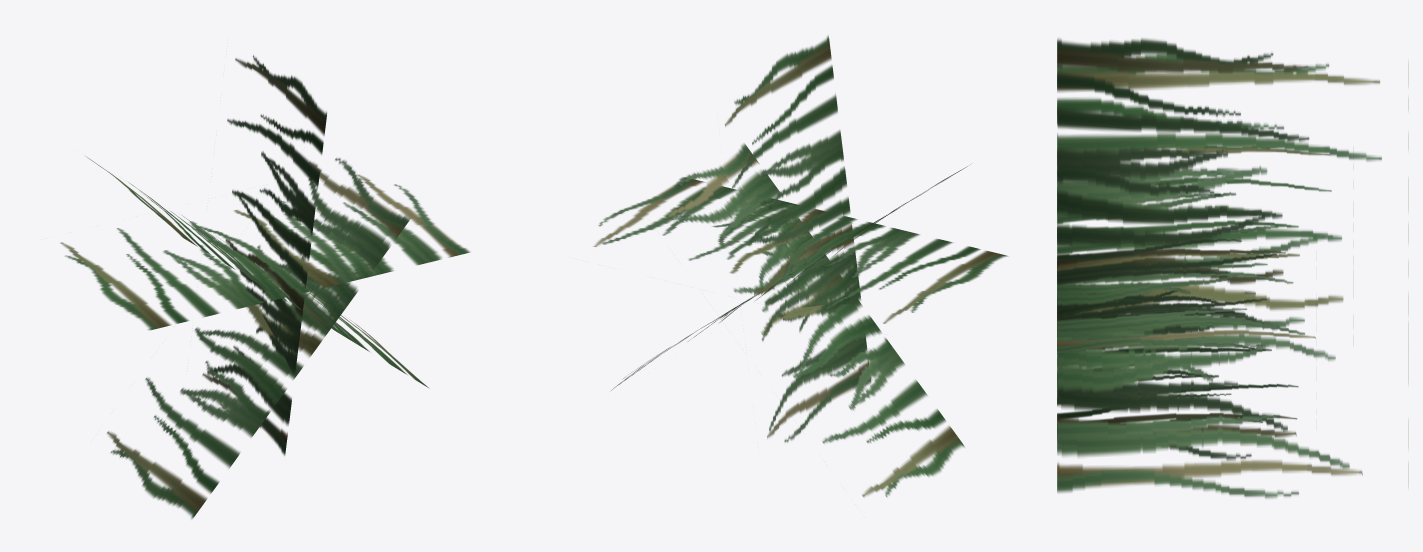
The model's file is Tuft_Wild.glb.
The picture shows the model from 3 angles, left to right: view 1: azimuth 30°, elevation 25°; view 2: azimuth 150°, elevation 25°; view 3: azimuth 270°, elevation 25°; orthographic projection. The views are drawn at different scales.
Visible parts, largest first — view 1: Tuft_Wild; view 2: Tuft_Wild; view 3: Tuft_Wild.
Part boxes in pixels (x1,y1,x2,y2): Tuft_Wild: (60, 55, 469, 518); Tuft_Wild: (593, 36, 1007, 496); Tuft_Wild: (1057, 38, 1408, 498).
Size of the model in its own units: 0.6 by 0.6265 by 0.3783.
Materials: 1 (1 with a texture image).
